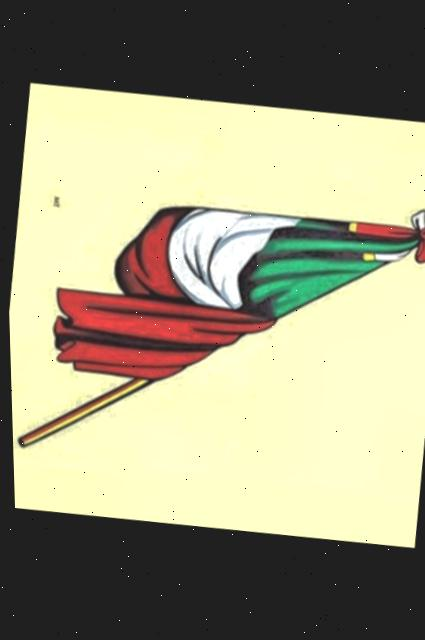La Bandera: (2, 80, 425, 554)
